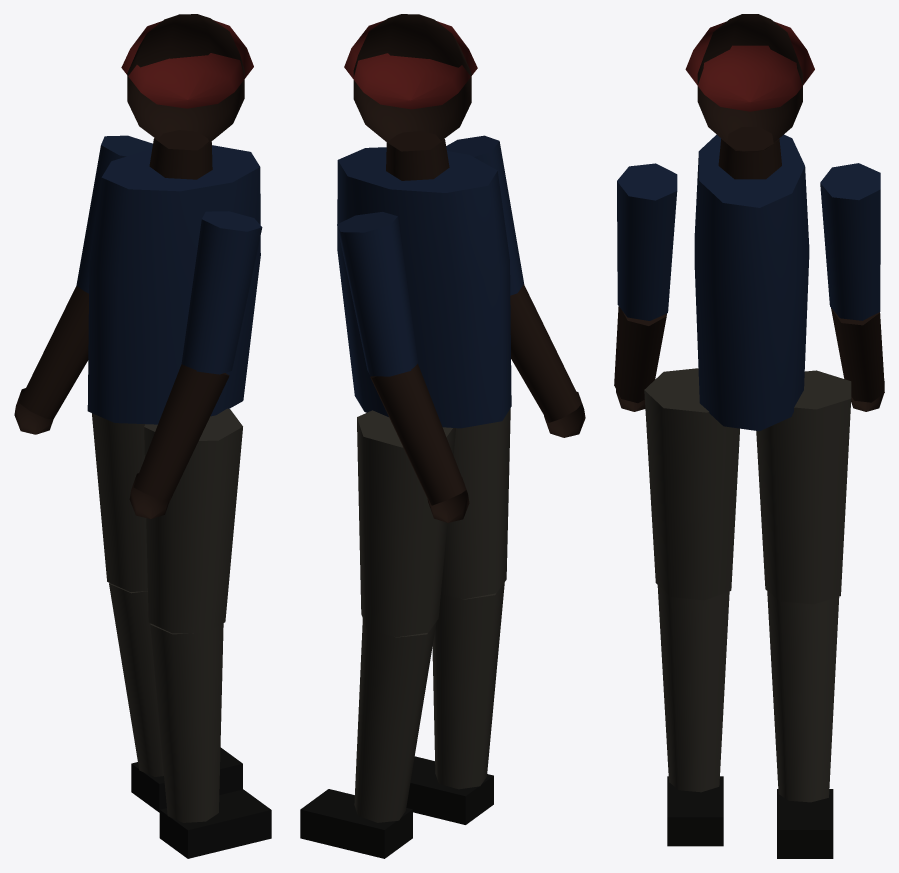
File: HUMAN_M1.dae
The picture shows the model from 3 angles, left to right: view 1: azimuth 30°, elevation 25°; view 2: azimuth 150°, elevation 25°; view 3: azimuth 270°, elevation 25°; orthographic projection.
Visible parts, largest first — view 1: HUMAN_M1; view 2: HUMAN_M1; view 3: HUMAN_M1.
Boxes of the visible parts, x1,y1,x2,y2 form: HUMAN_M1: [14, 14, 271, 858]; HUMAN_M1: [300, 14, 585, 858]; HUMAN_M1: [614, 14, 884, 858].
Size of the model in its own units: 0.4166 by 0.527 by 1.73.
